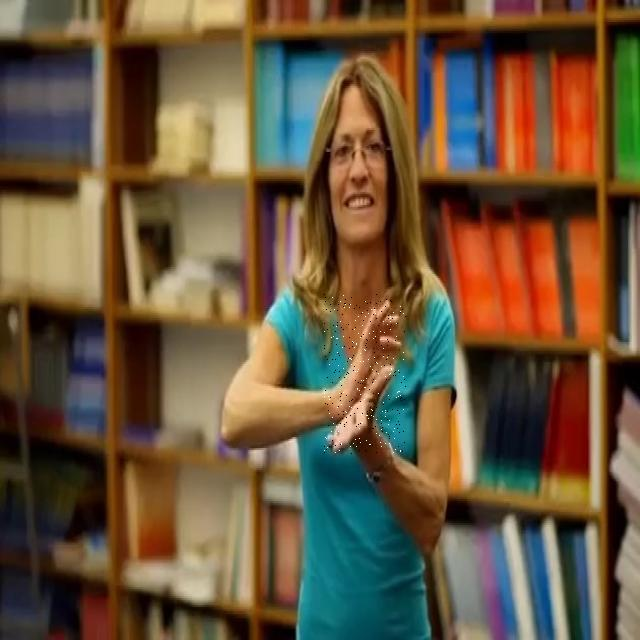cheese: (324, 294, 406, 454)
